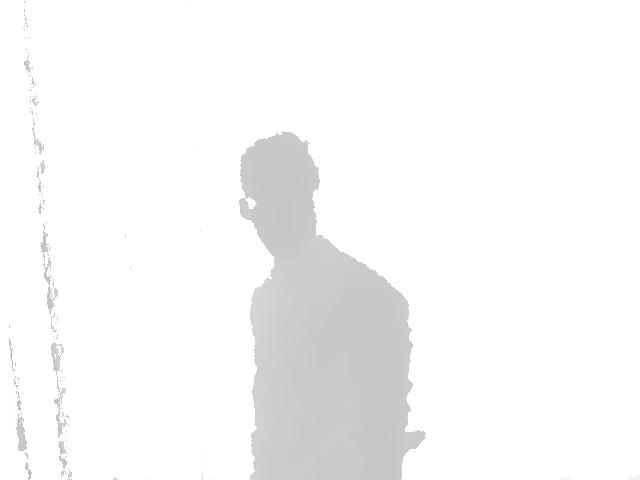head: (238, 131, 321, 259)
person: (238, 131, 427, 480)
